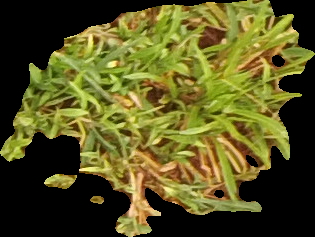grass: (2, 1, 313, 236)
